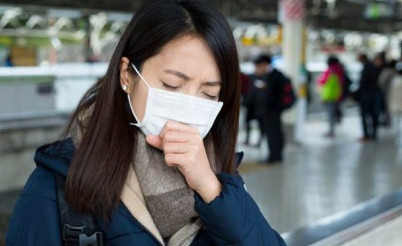mask: (121, 65, 224, 150)
